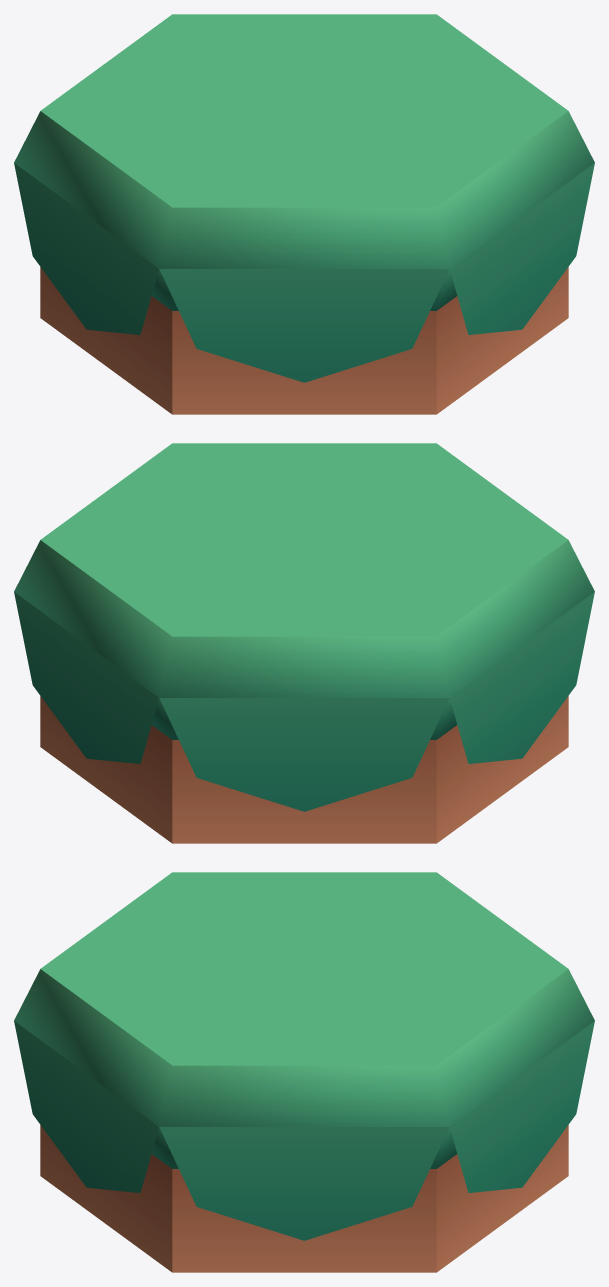
Rendered from kenney-platformer-block-grass-overhang-low-hexagon.glb.
3 renders of one model, top to bottom at view 1: azimuth 30°, elevation 25°; view 2: azimuth 150°, elevation 25°; view 3: azimuth 270°, elevation 25°, orthographic.
Visible parts, largest first — view 1: block-grass-overhang-low-hexagon; view 2: block-grass-overhang-low-hexagon; view 3: block-grass-overhang-low-hexagon.
Boxes of the visible parts, x1,y1,x2,y2 form: block-grass-overhang-low-hexagon: (14,14,594,414); block-grass-overhang-low-hexagon: (14,443,594,843); block-grass-overhang-low-hexagon: (14,872,594,1272).
Size of the model in its own units: 1.1 by 0.4999 by 1.27.
1 material, 1 textured.
